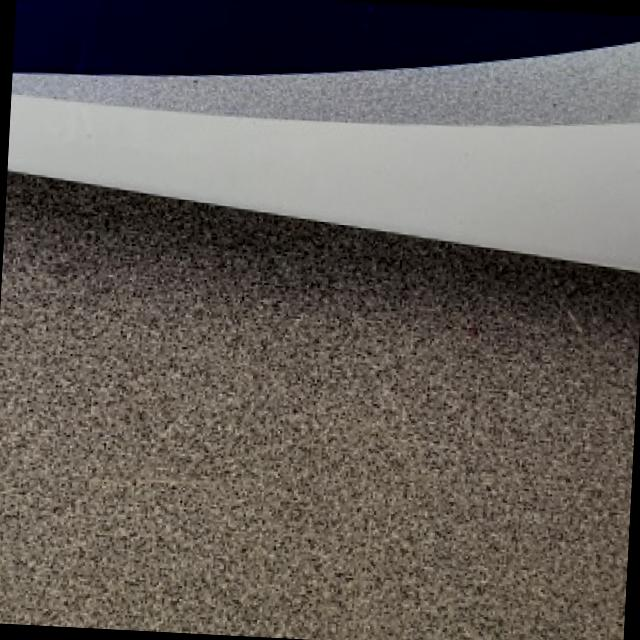healthy: (0, 173, 640, 640), (8, 0, 640, 270)
